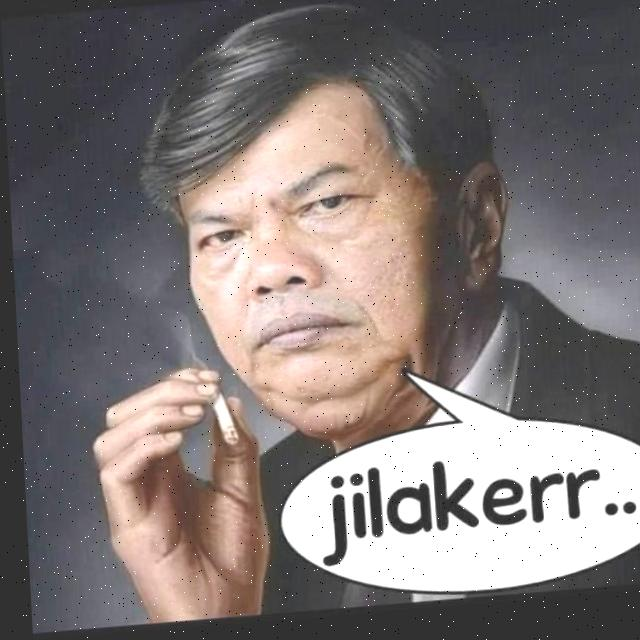cigarette: (204, 395, 235, 451)
